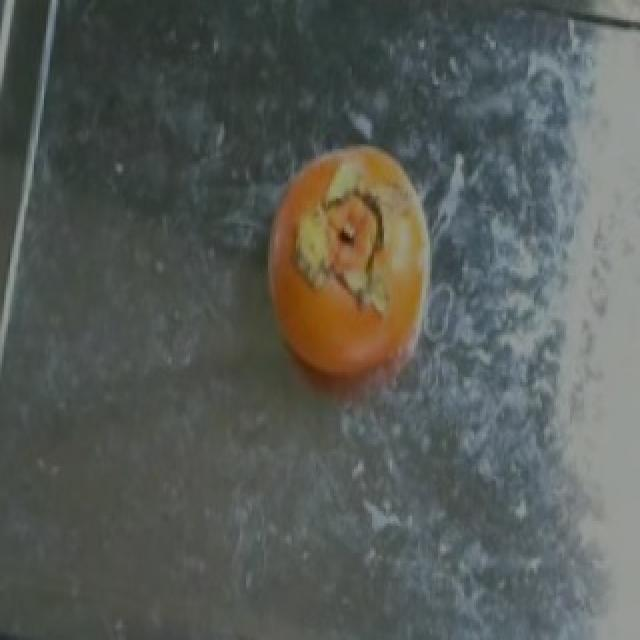Fruit: (254, 124, 454, 442)
